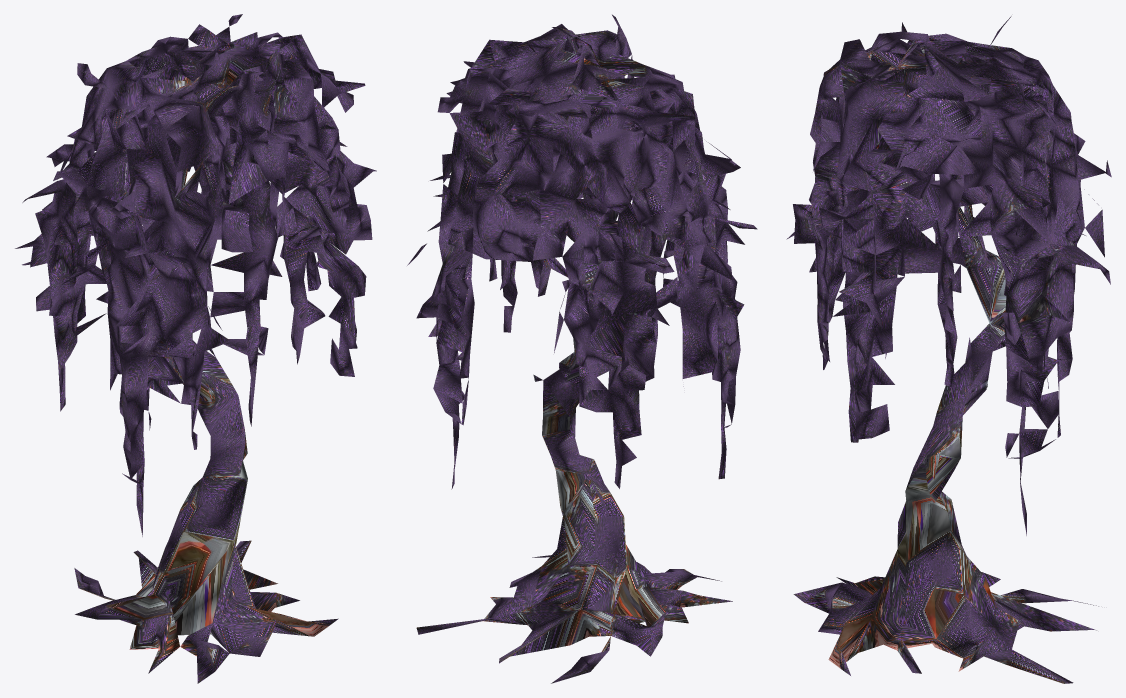
The model's file is wisteria.glb.
The picture shows the model from 3 angles, left to right: view 1: azimuth 30°, elevation 25°; view 2: azimuth 150°, elevation 25°; view 3: azimuth 270°, elevation 25°; orthographic projection. The views are drawn at different scales.
Bounding box in the file's own units: 3.25 × 6 × 2.95.
Materials: 1 (1 with a texture image).
